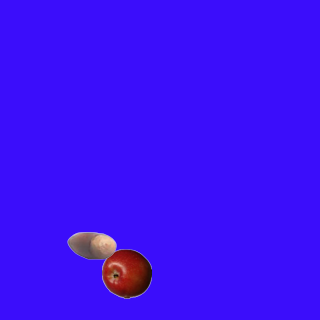Apple Braeburn: (101, 248, 151, 298)
Hazelnut: (66, 220, 116, 270)
